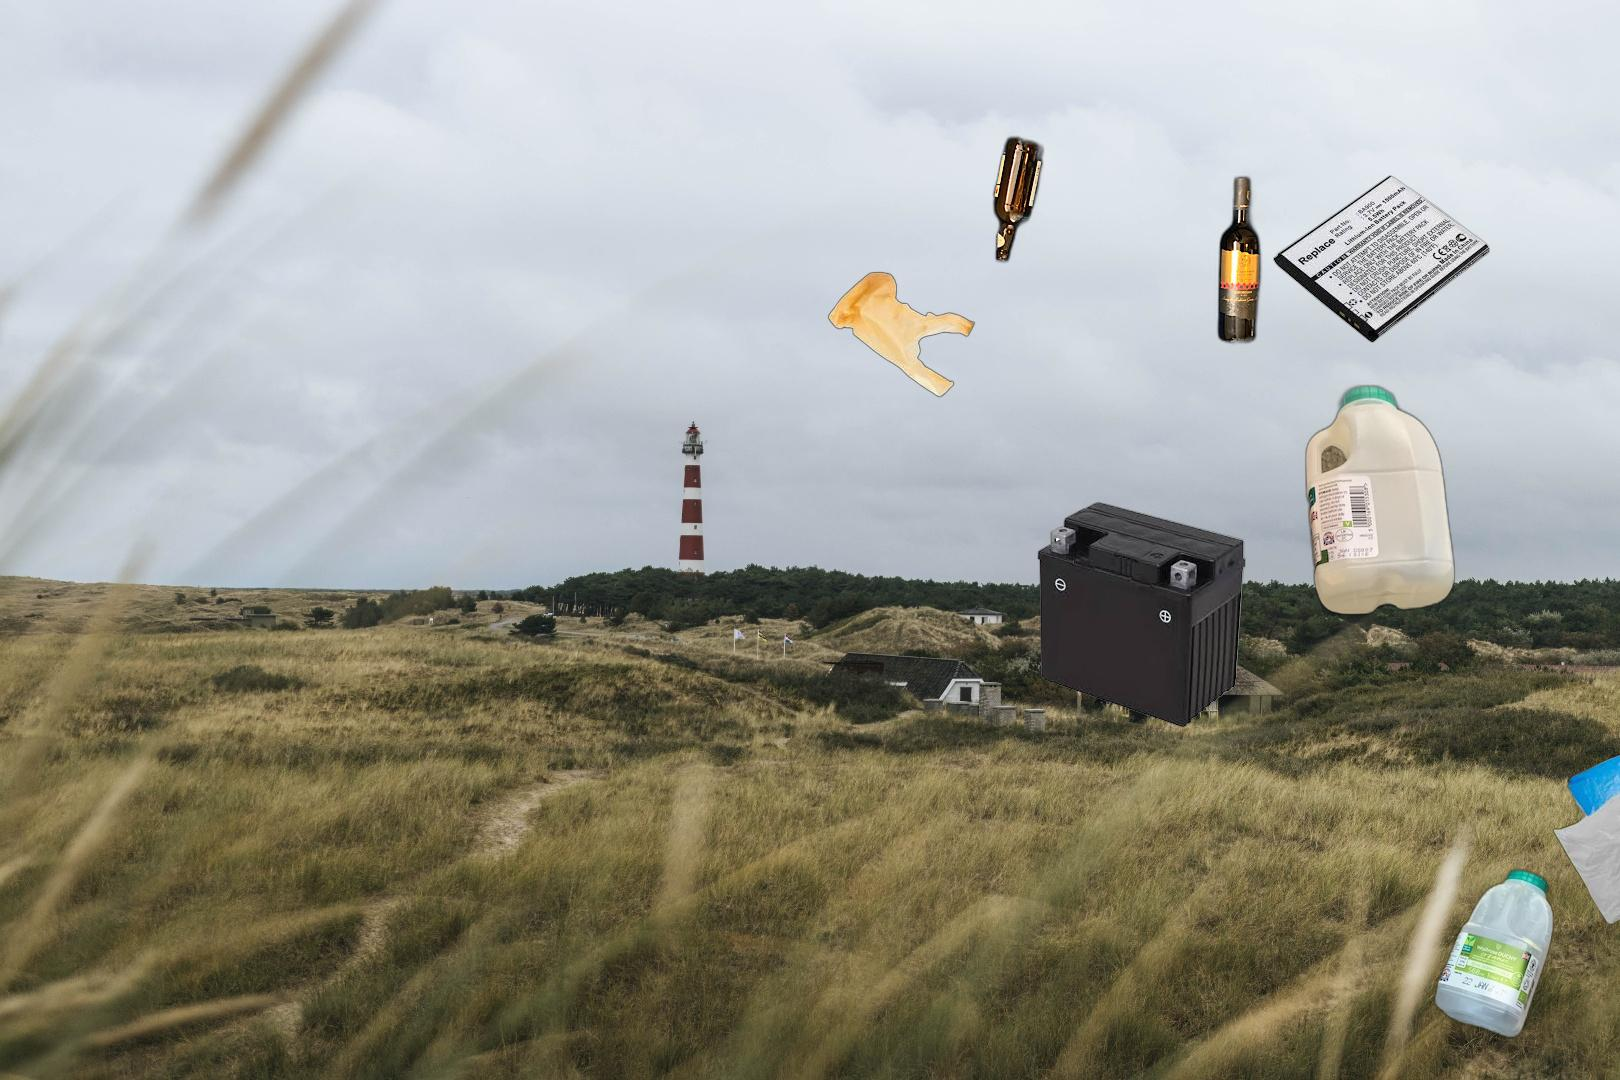battery: (1035, 501, 1248, 727), (1270, 174, 1492, 345)
glass: (990, 131, 1264, 348)
plastic-bag: (824, 271, 978, 400), (1550, 722, 1620, 940)
plastic-bottles: (1301, 378, 1460, 621), (1431, 864, 1559, 1044)
